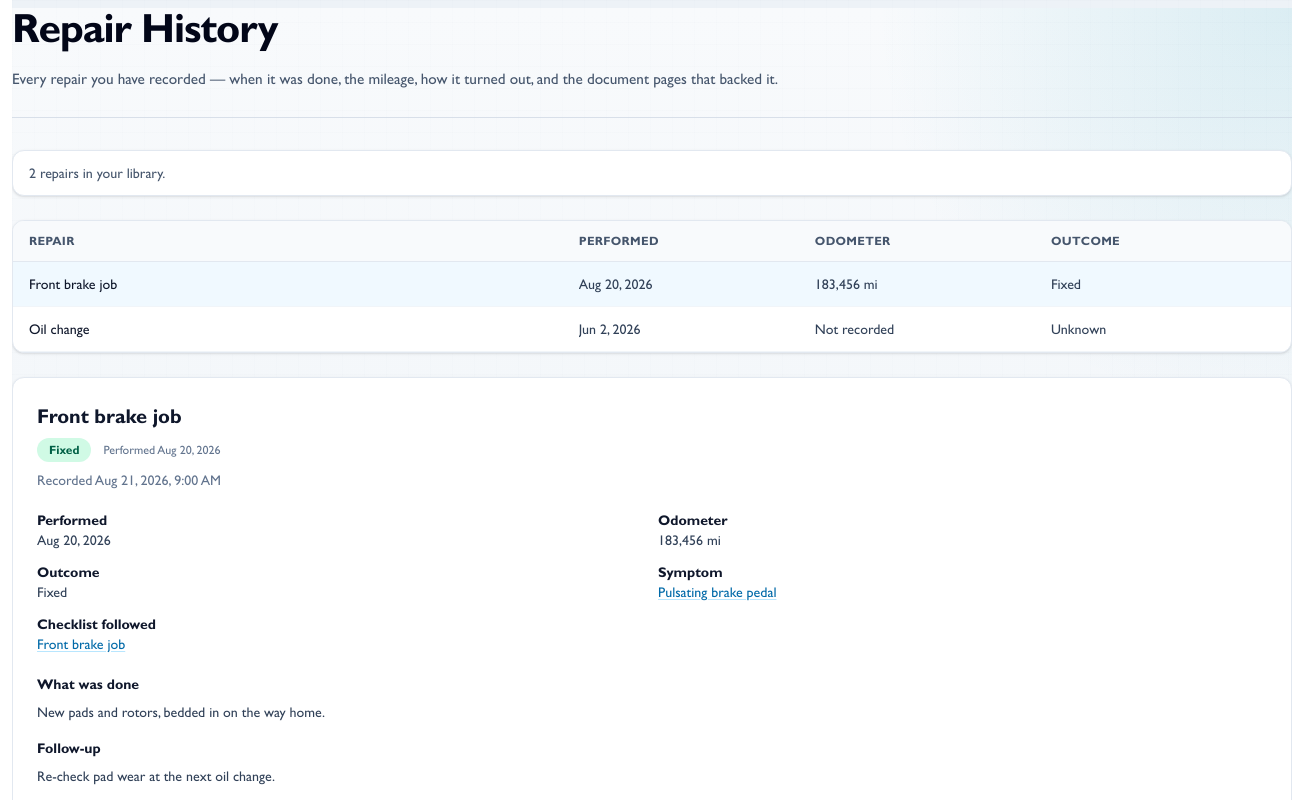
Scenario: selecting a repair writes it into the URL
Expected: the heading "Front brake job" is shown, top-left (37, 404), bottom-right (182, 428)
Click the button with aria-label "Select repair: Oil change" at (59, 329), box top-left (13, 307), bottom-right (1291, 352)
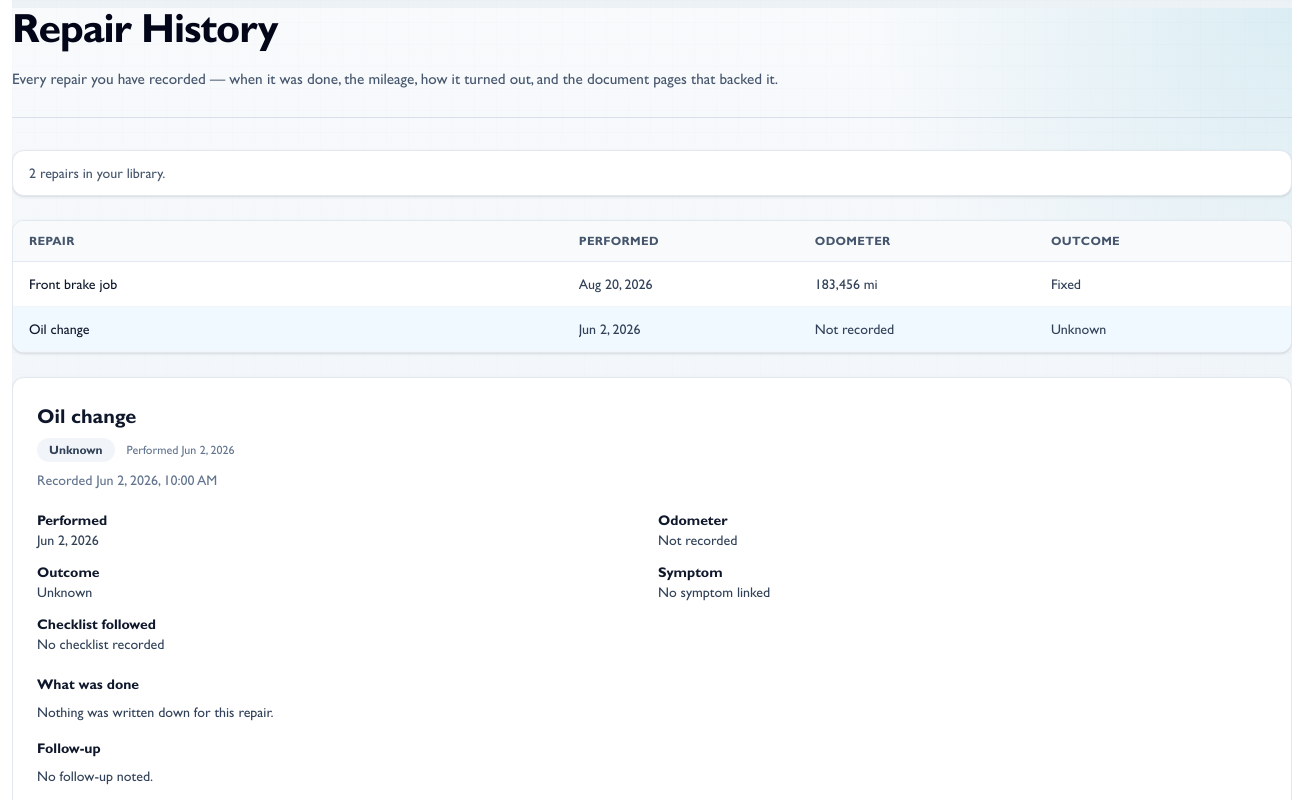
Now the heading "Oil change" is shown, box top-left (37, 404), bottom-right (136, 428)
